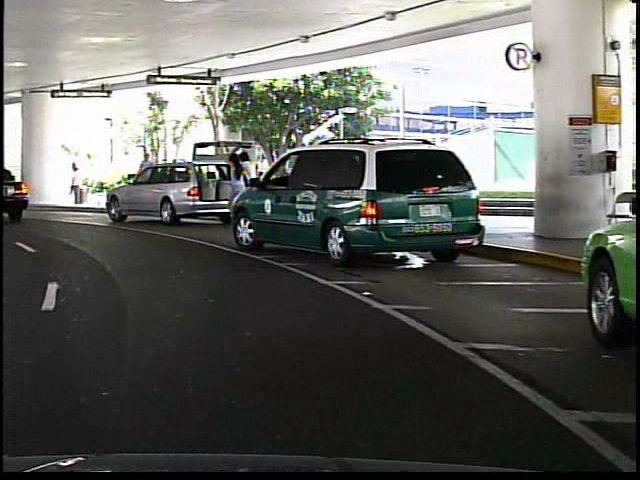person: (133, 149, 154, 203), (223, 148, 243, 201)
